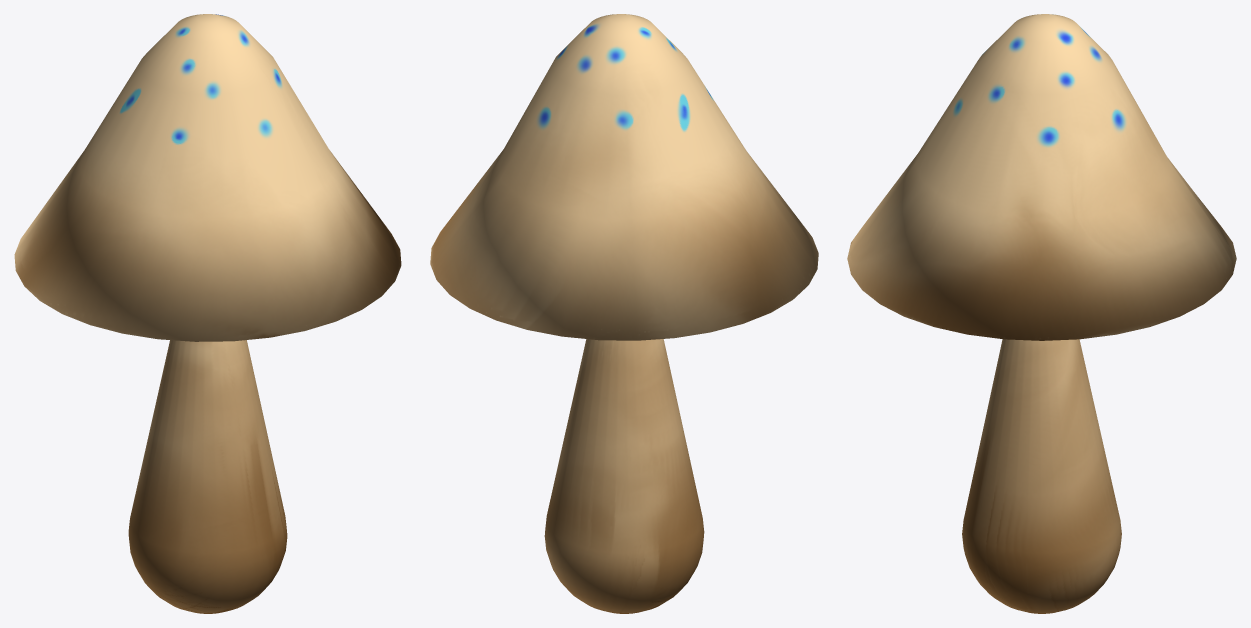
The model's file is MushroomTwo.fbx.
3 renders of one model, left to right at view 1: azimuth 30°, elevation 25°; view 2: azimuth 150°, elevation 25°; view 3: azimuth 270°, elevation 25°, orthographic.
Parts seen in each view (by area): view 1: shroom; view 2: shroom; view 3: shroom.
Part boxes in pixels (x1,y1,x2,y2): shroom: (14,14,401,613); shroom: (430,14,818,613); shroom: (847,14,1236,613).
Bounding box in the file's own units: 4.87 × 4.87 × 8.12.
